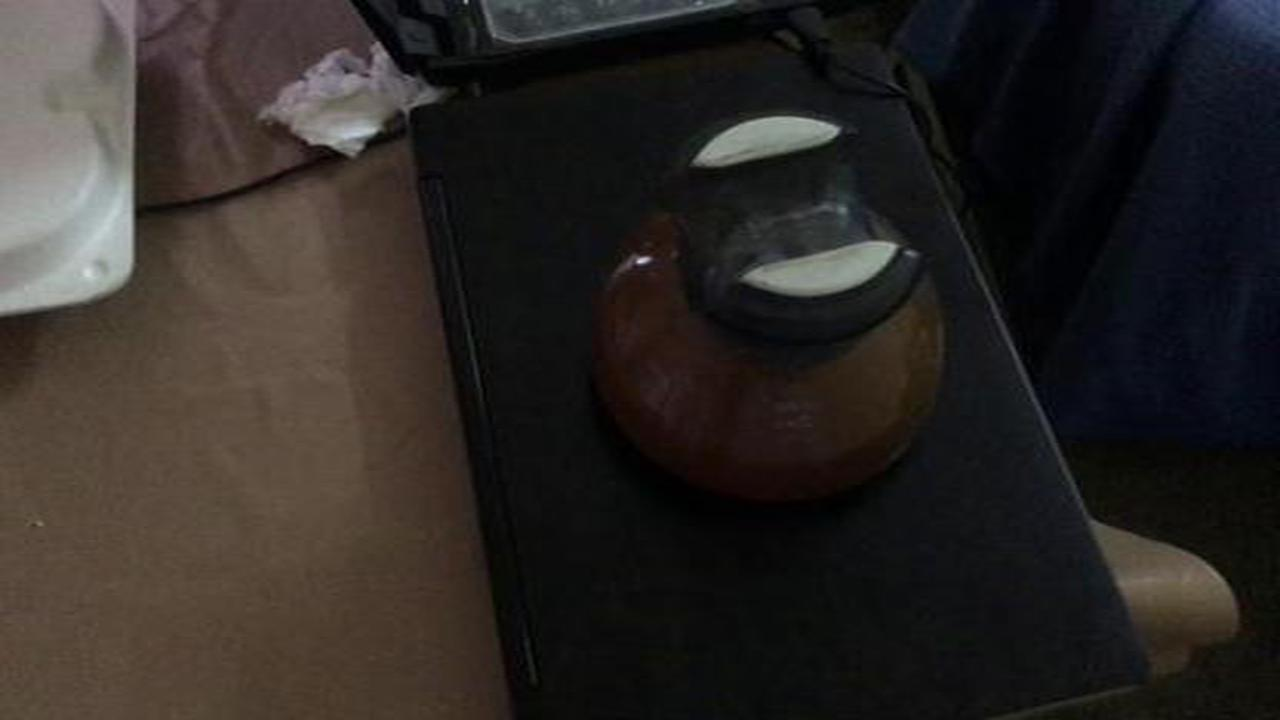insulator_pin: (567, 91, 976, 516)
